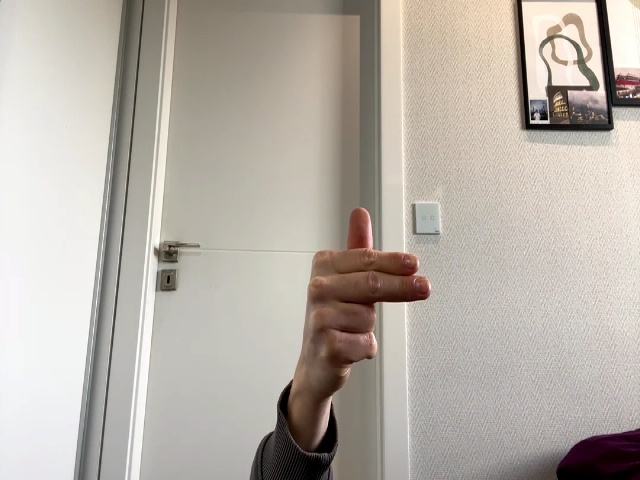N: (302, 208, 432, 372)
